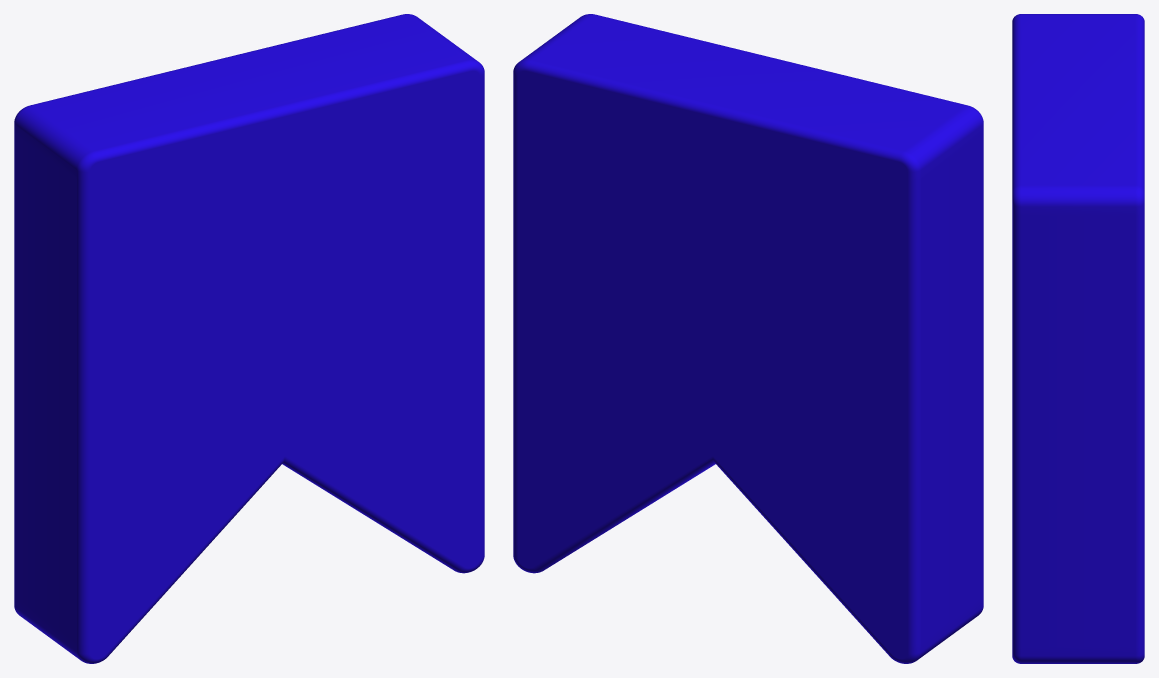
The model's file is bookmark.glb.
3 renders of one model, left to right at view 1: azimuth 30°, elevation 25°; view 2: azimuth 150°, elevation 25°; view 3: azimuth 270°, elevation 25°, orthographic. The views are drawn at different scales.
Visible parts, largest first — view 1: Curve.002; view 2: Curve.002; view 3: Curve.002.
Part boxes in pixels (x1=…): Curve.002: x1=14, y1=14, x2=484, y2=663; Curve.002: x1=513, y1=14, x2=983, y2=663; Curve.002: x1=1012, y1=14, x2=1144, y2=663.
Bounding box in the file's own units: 19.83 × 23.84 × 6.
